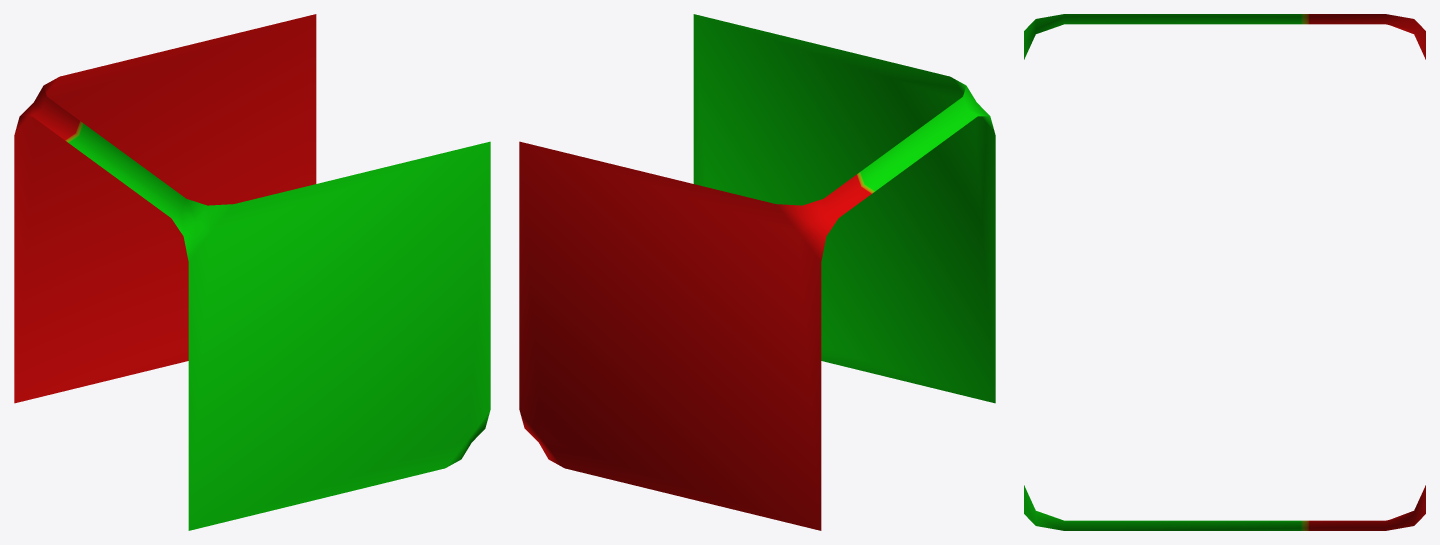
File: Grass-┐└.fbx
3 renders of one model, left to right at view 1: azimuth 30°, elevation 25°; view 2: azimuth 150°, elevation 25°; view 3: azimuth 270°, elevation 25°, orthographic. The views are drawn at different scales.
Visible parts, largest first — view 1: Grass-┐└; view 2: Grass-┐└; view 3: Grass-┐└.
Boxes of the visible parts, x1,y1,x2,y2 form: Grass-┐└: (14,14,490,530); Grass-┐└: (519,14,995,530); Grass-┐└: (1024,14,1425,530).
Size of the model in its own units: 100 by 100 by 100.
